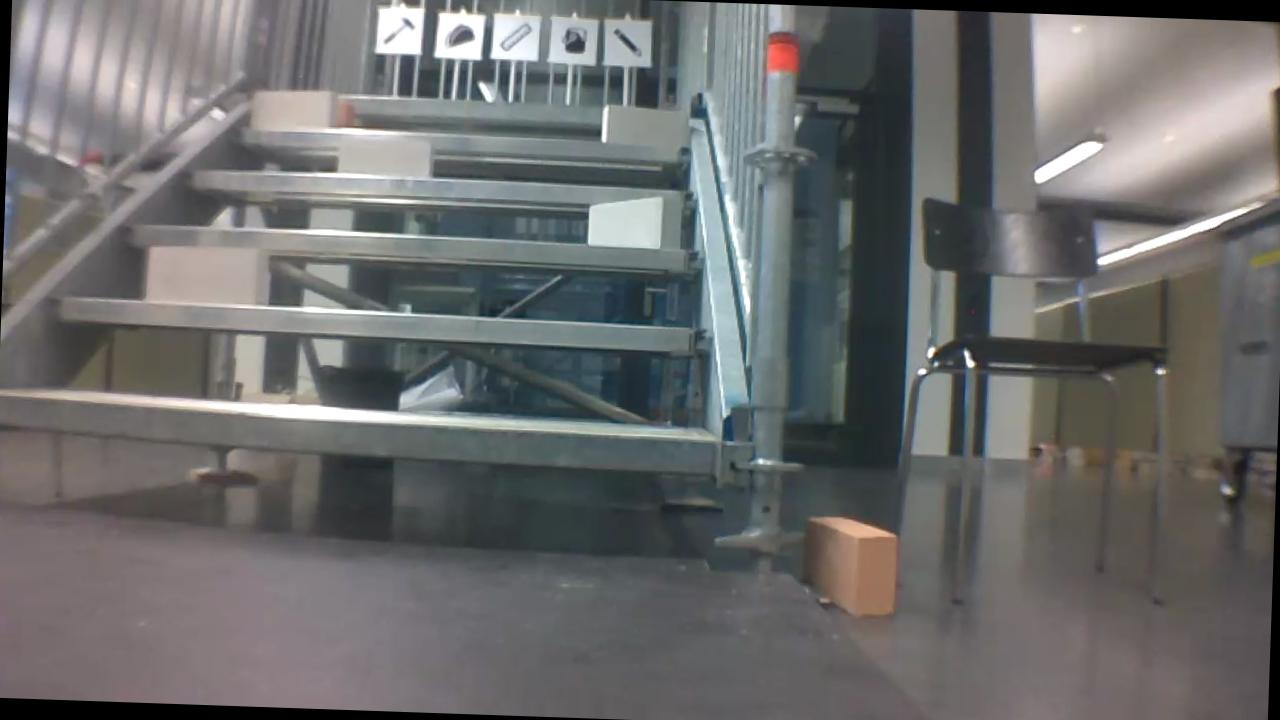brick: (144, 243, 270, 307), (587, 195, 681, 248), (337, 137, 435, 177), (599, 105, 682, 144), (254, 88, 334, 127), (337, 103, 353, 124)
bucket: (558, 22, 589, 55)
edge: (49, 298, 713, 351), (122, 224, 704, 270), (183, 169, 698, 207), (233, 124, 689, 162), (246, 91, 684, 128)
hammer: (377, 11, 417, 50)
pencil: (609, 25, 645, 58)
ruler: (497, 19, 535, 55)
taco: (439, 19, 477, 51)
